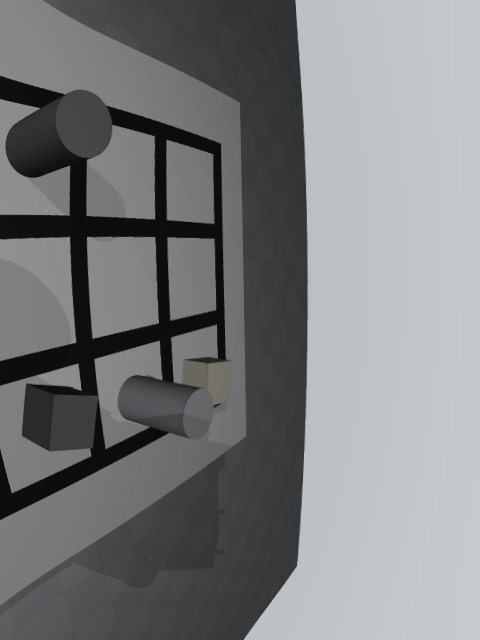can: (117, 375, 214, 440)
cube: (22, 384, 99, 452)
cylinder: (5, 89, 113, 178)
foam: (182, 357, 232, 405)
